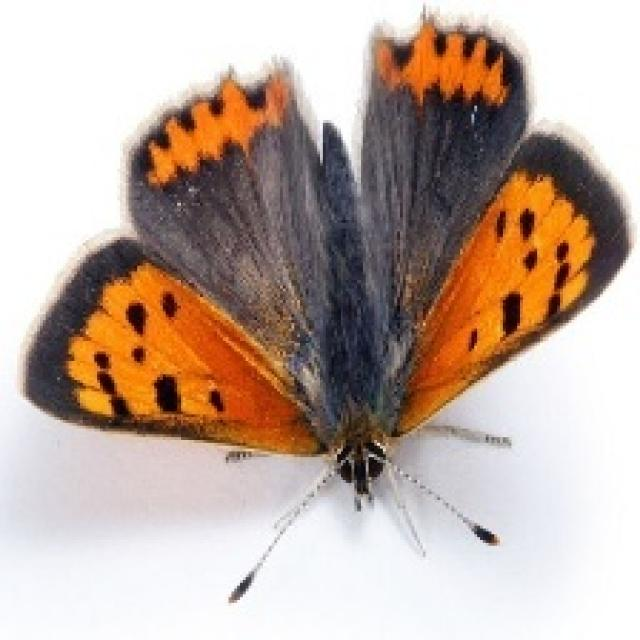butterfly: (17, 3, 632, 603)
